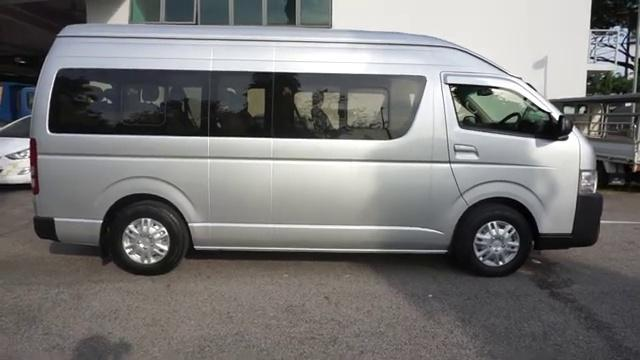Van: (24, 20, 606, 283)
